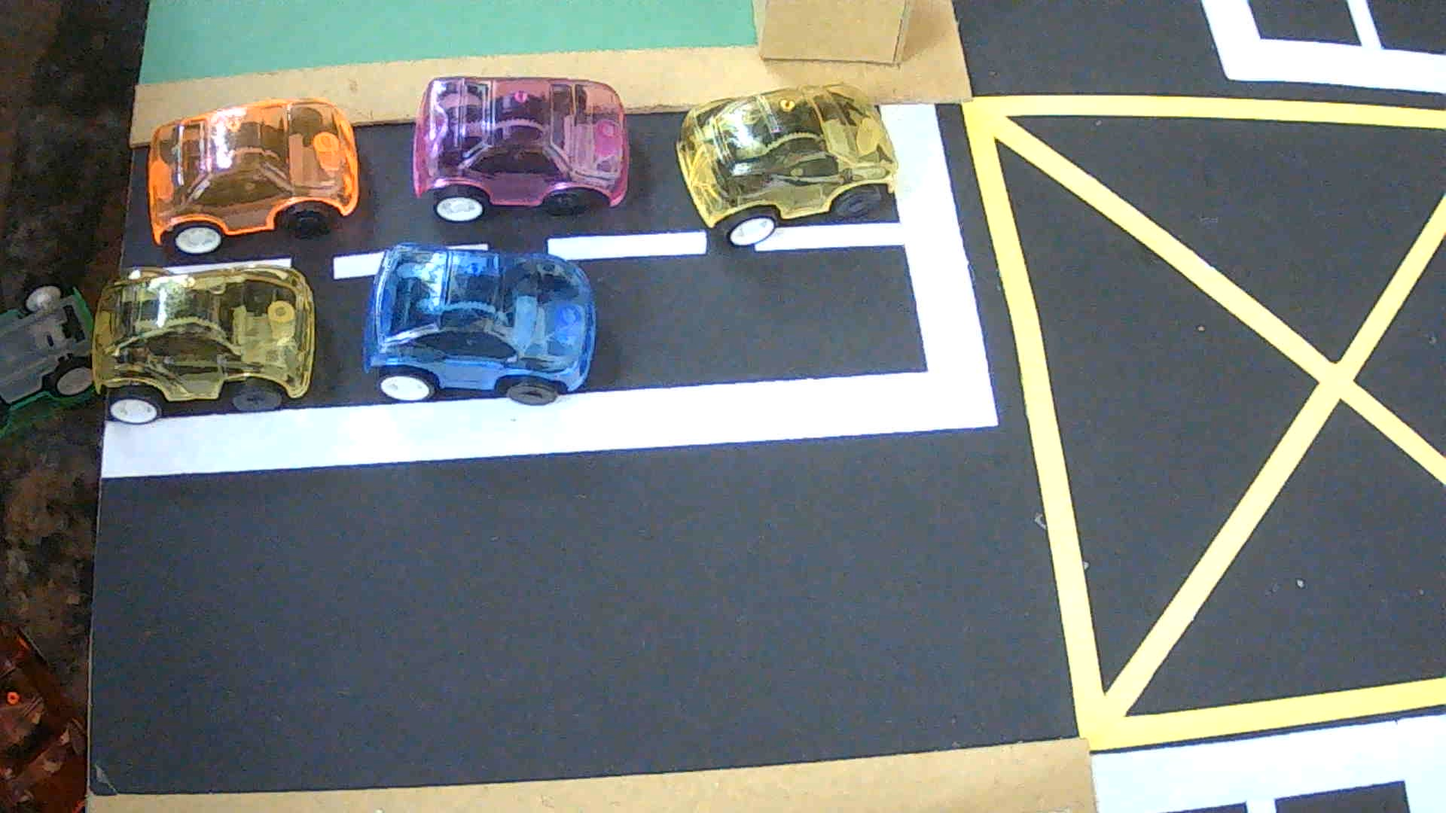Mobil biru: (363, 242, 597, 404)
Mobil kuning: (92, 263, 315, 424), (676, 84, 895, 247)
Mobil orange: (147, 99, 359, 254)
Mobil ungu: (413, 77, 630, 221)
